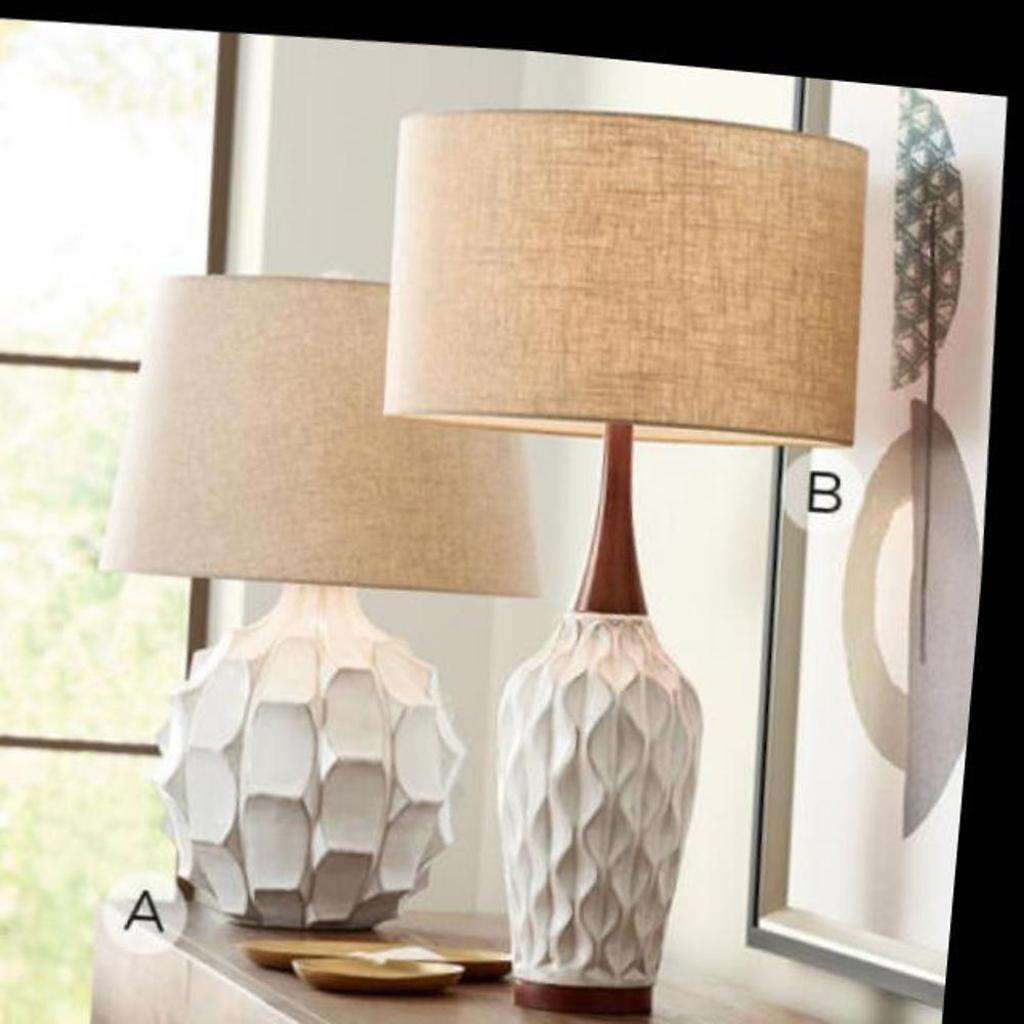shelf: (336, 66, 914, 1024), (83, 238, 562, 941)
